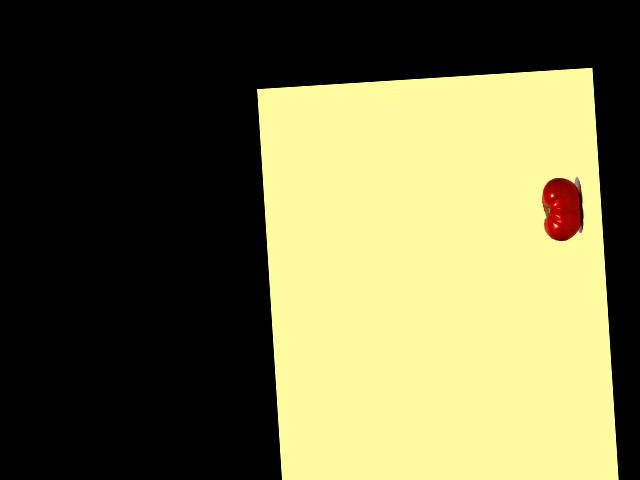tomato: (540, 177, 583, 242)
